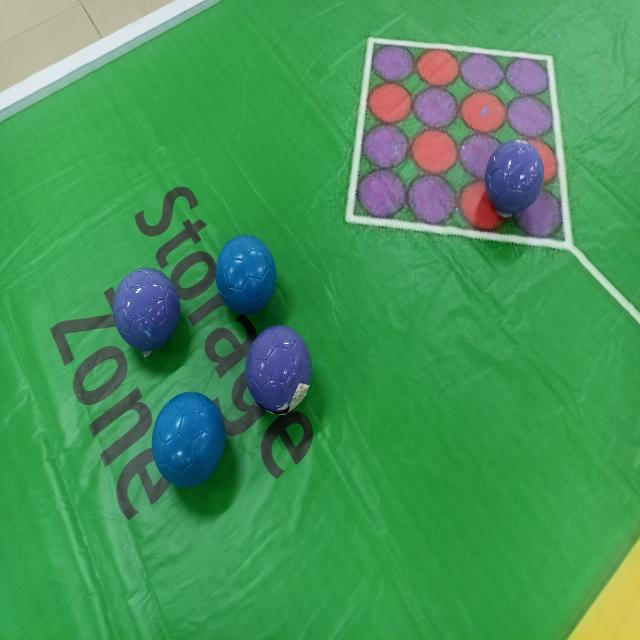blue_ball: (154, 392, 222, 484), (217, 235, 273, 312)
purple_ball: (248, 325, 313, 409), (114, 269, 177, 347), (488, 146, 543, 210)
